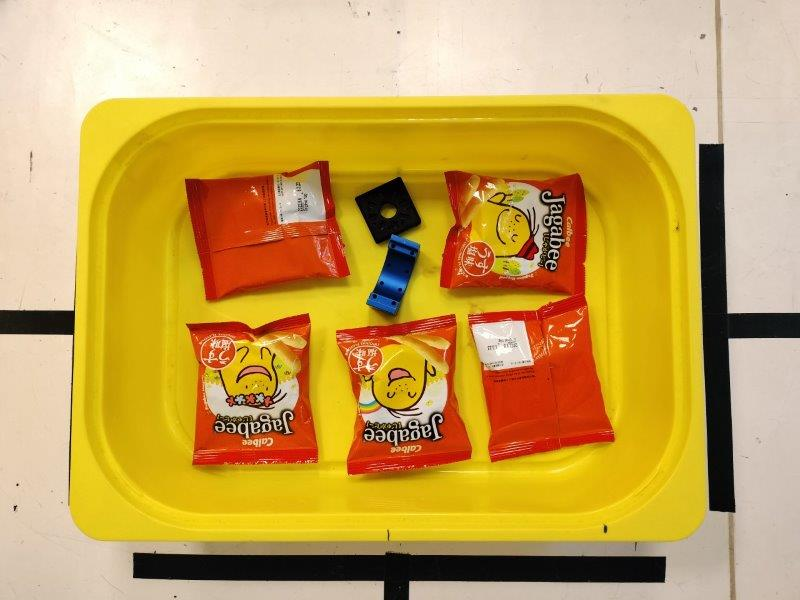Jagabee: (467, 293, 615, 462), (183, 160, 351, 303), (336, 315, 471, 474), (187, 312, 318, 466), (440, 171, 589, 296)
